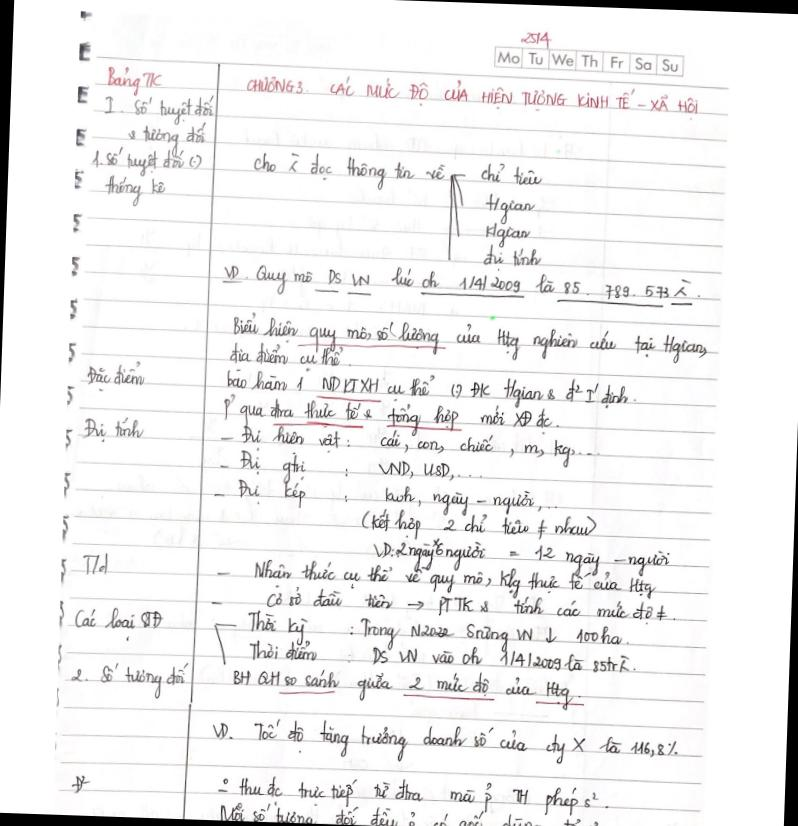text: (207, 714, 684, 774), (230, 308, 710, 366), (218, 260, 700, 310), (208, 555, 659, 607), (243, 70, 705, 120), (224, 365, 638, 414), (216, 770, 603, 819), (229, 662, 584, 714), (217, 421, 606, 468), (218, 390, 562, 443), (265, 586, 670, 626), (369, 534, 674, 580), (357, 616, 630, 660), (215, 798, 607, 826), (358, 504, 600, 547), (366, 642, 638, 678), (248, 147, 450, 195), (380, 481, 564, 522), (70, 656, 192, 701), (102, 86, 217, 127), (496, 49, 681, 74), (89, 144, 203, 180), (226, 342, 348, 374), (70, 604, 164, 644), (215, 447, 309, 486), (124, 116, 210, 158), (212, 475, 312, 507), (374, 457, 485, 483), (84, 356, 150, 396), (246, 606, 310, 646), (76, 412, 148, 447), (100, 172, 168, 208), (247, 636, 320, 666), (478, 191, 537, 228), (477, 242, 544, 274), (104, 63, 165, 98), (477, 160, 545, 189), (480, 221, 534, 249), (80, 549, 112, 579), (518, 28, 554, 48)
